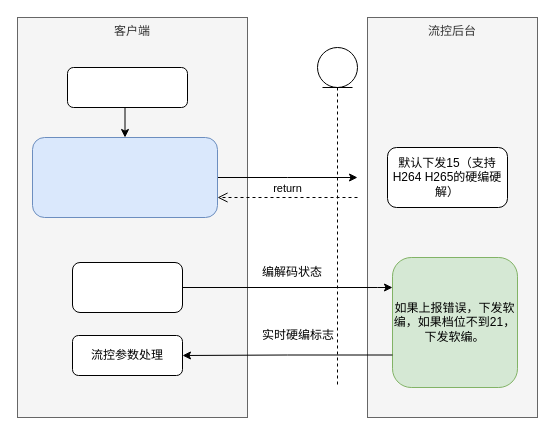
This 555x435 diagram has some shape labels left out. The centre of each missing label's shape, as x and y in pixels:
"2s上报本地数据" goes at (x=127, y=287).
"获取支持的编解码格式，最大分辨率，最大帧率，是否支持硬件" goes at (x=125, y=177).
"进房" goes at (x=127, y=87).
